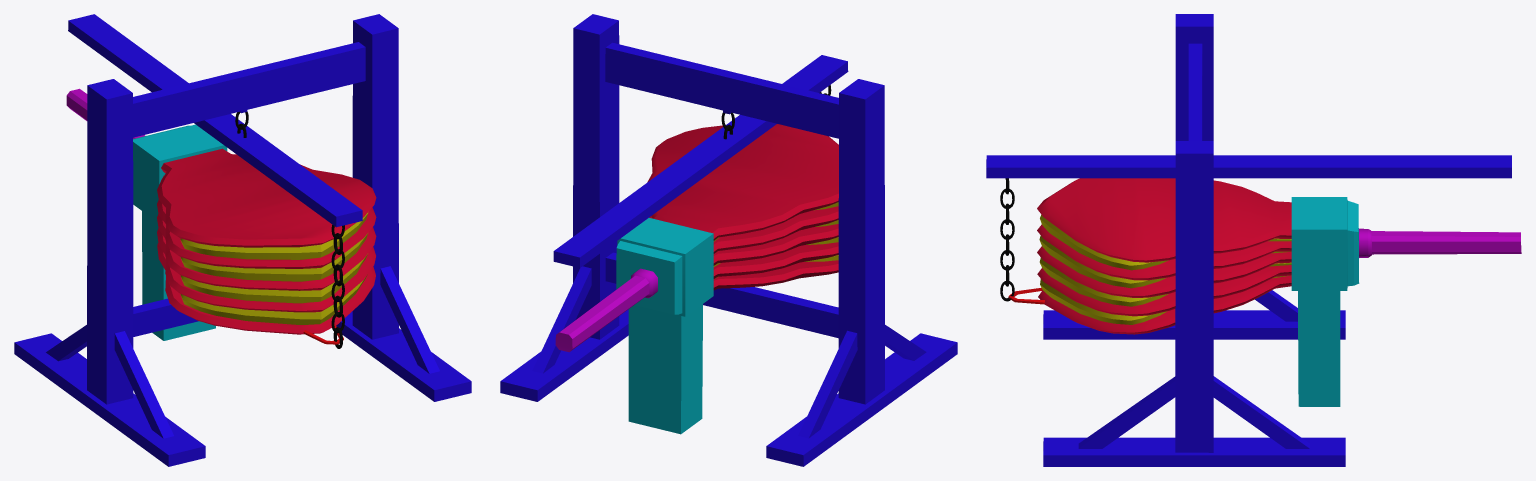
Rendered from Fole.fbx.
The picture shows the model from 3 angles, left to right: view 1: azimuth 30°, elevation 25°; view 2: azimuth 150°, elevation 25°; view 3: azimuth 270°, elevation 25°; orthographic projection. The views are drawn at different scales.
Parts seen in each view (by area): view 1: Fole.low; view 2: Fole.low; view 3: Fole.low.
Part boxes in pixels (x1,y1,x2,y2): Fole.low: [14, 14, 471, 466]; Fole.low: [500, 14, 957, 466]; Fole.low: [986, 14, 1521, 466].
Size of the model in its own units: 121 by 121 by 189.
